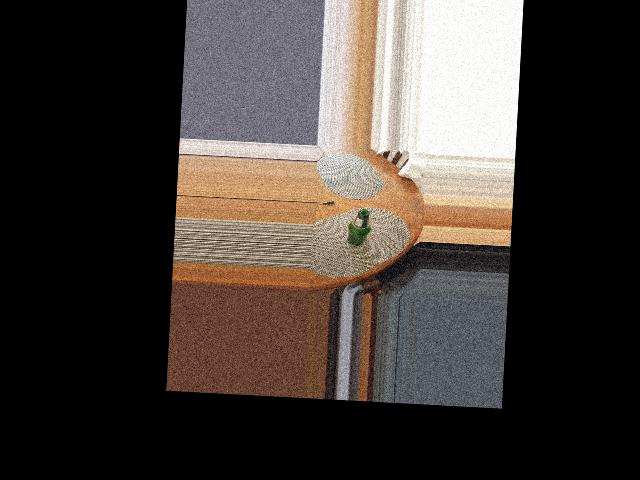beer: (348, 208, 372, 246)
